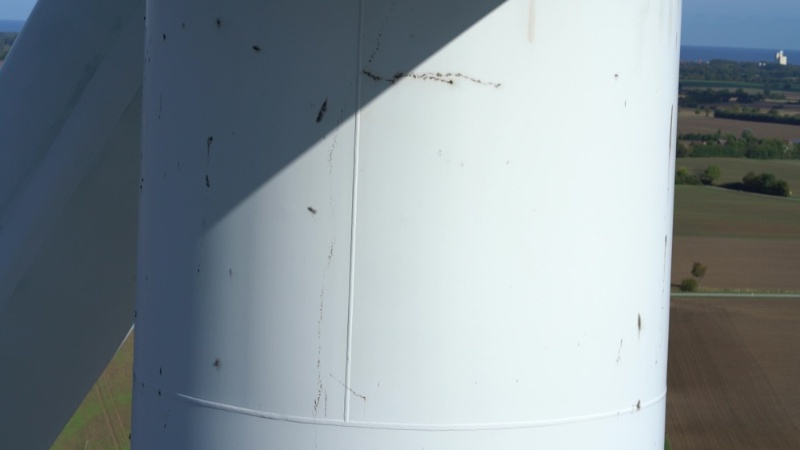weldseam: (132, 367, 668, 435), (338, 1, 367, 431)
